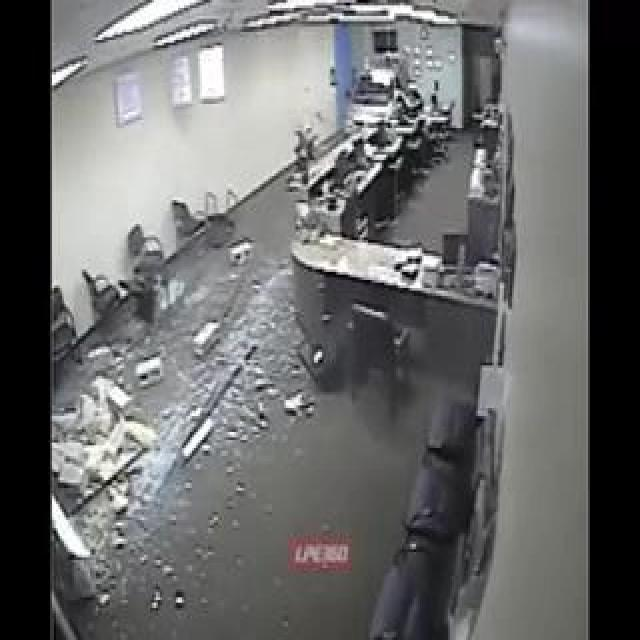burglary: (324, 40, 407, 168)
